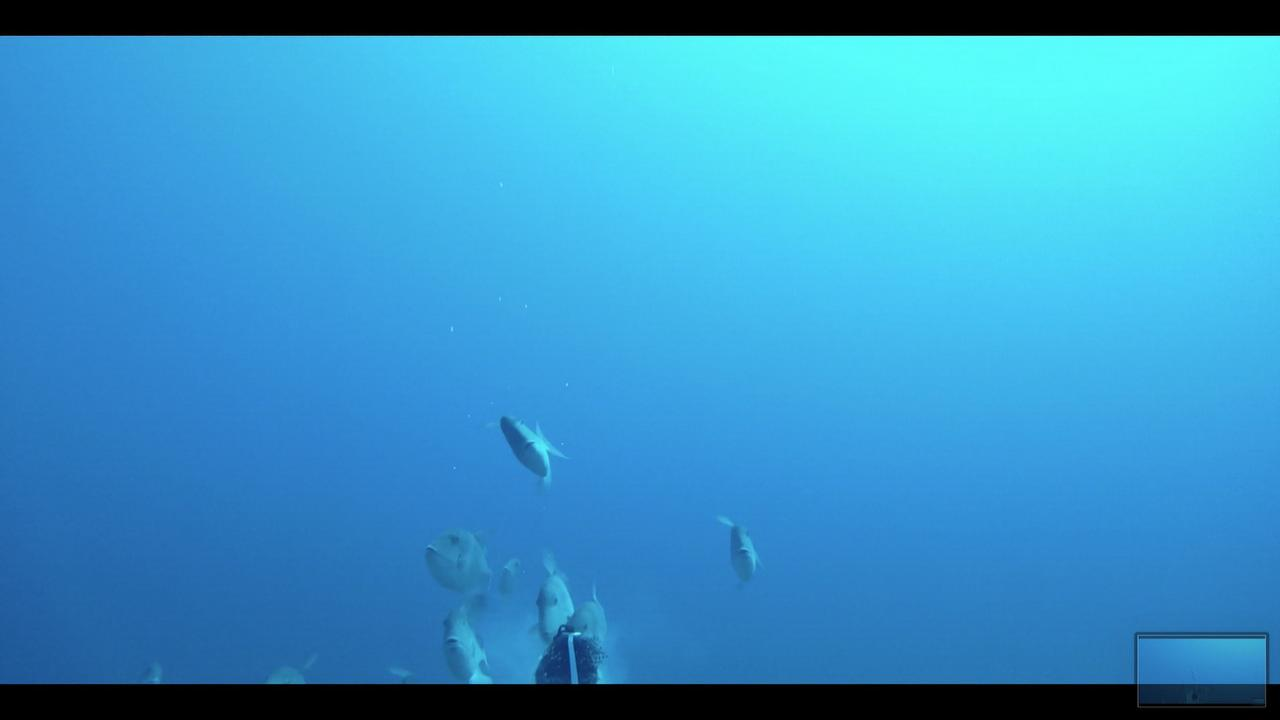balistes: (481, 404, 574, 496), (422, 518, 495, 602), (436, 590, 490, 680), (709, 508, 765, 590), (530, 540, 571, 644), (569, 579, 608, 655)
